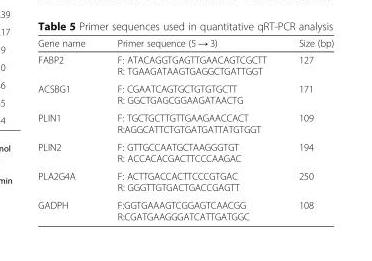table: (37, 36, 333, 221)
table column: (100, 36, 282, 221), (37, 36, 100, 221), (282, 36, 333, 221)
table column header: (37, 36, 333, 51)
table row: (37, 79, 333, 108), (37, 108, 333, 137), (37, 137, 333, 166), (37, 166, 333, 195), (37, 51, 333, 79), (37, 195, 333, 221), (37, 36, 333, 51)
